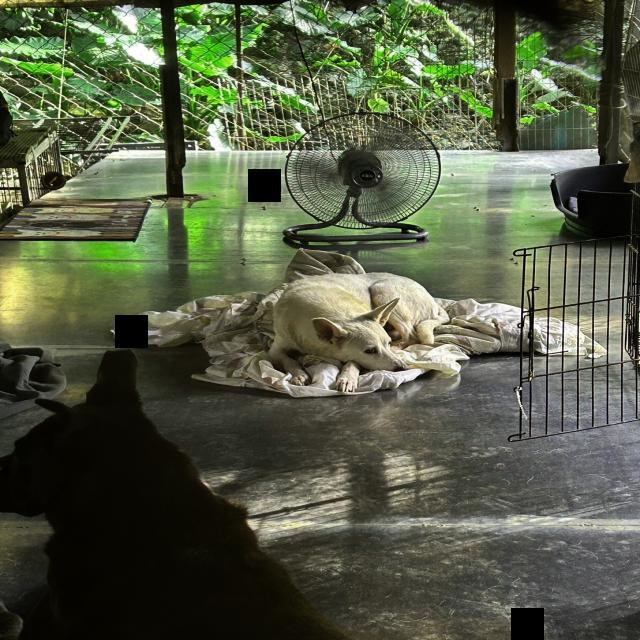adult_dog: (0, 343, 351, 640), (265, 270, 440, 395)
